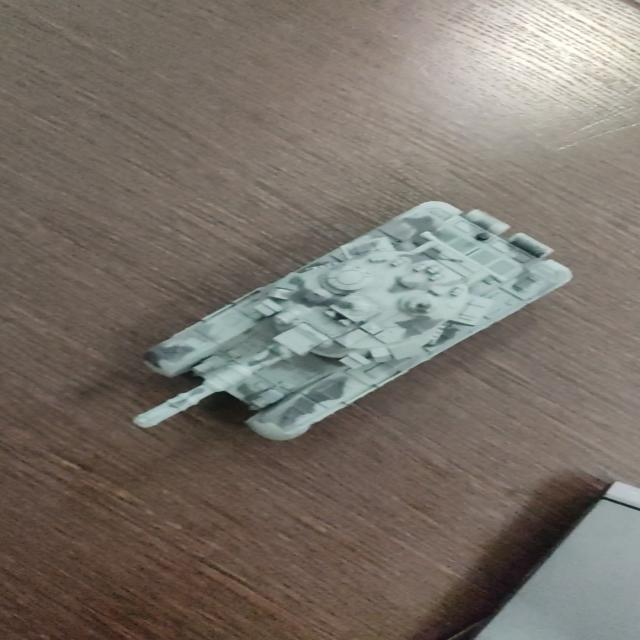tank: (134, 200, 573, 443)
